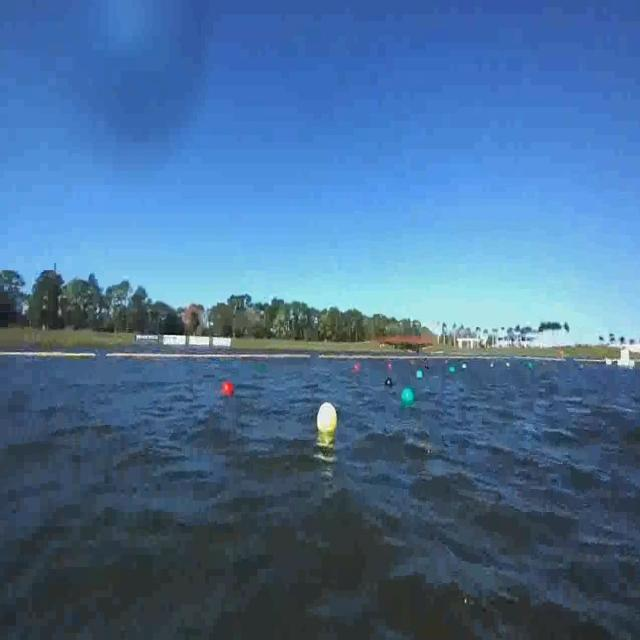black-buoy: (386, 378, 392, 388)
green-buoy: (401, 387, 414, 406), (417, 368, 424, 378)
red-buoy: (222, 379, 234, 395)
yellow-buoy: (320, 404, 340, 434)
